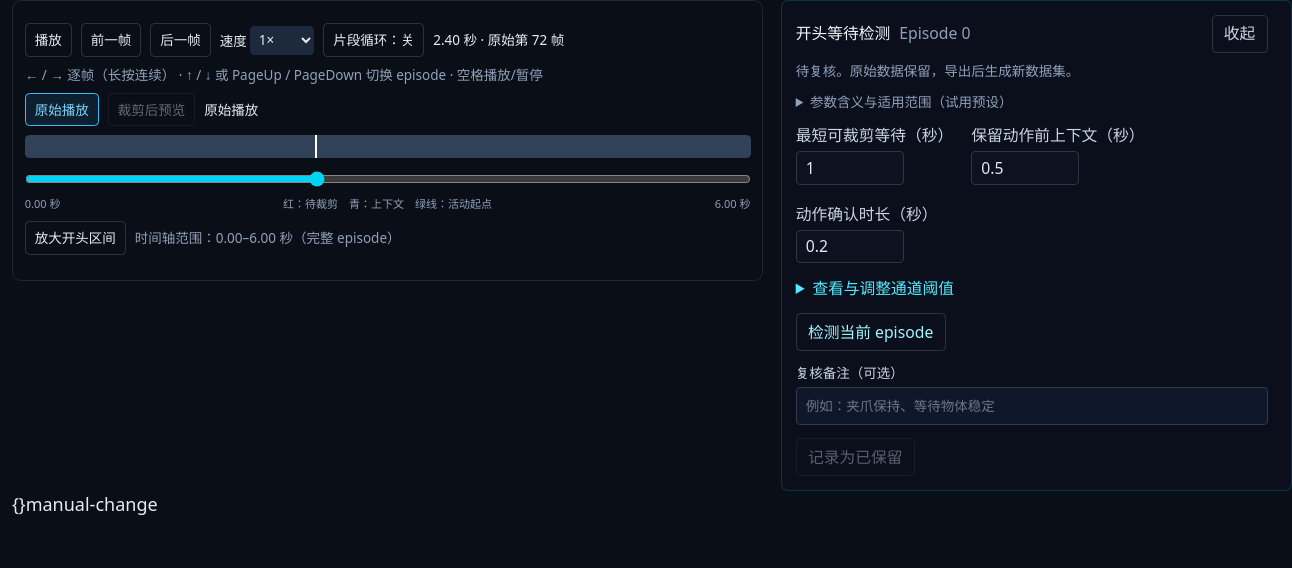
Test case: human review of initial waiting › unreadable data is shown as an error, never an empty successful detection
What coordinates should you click on to do the following:
click the button "检测当前 episode"
I would click on:
 (871, 332)
Its box is [796,313,946,351].
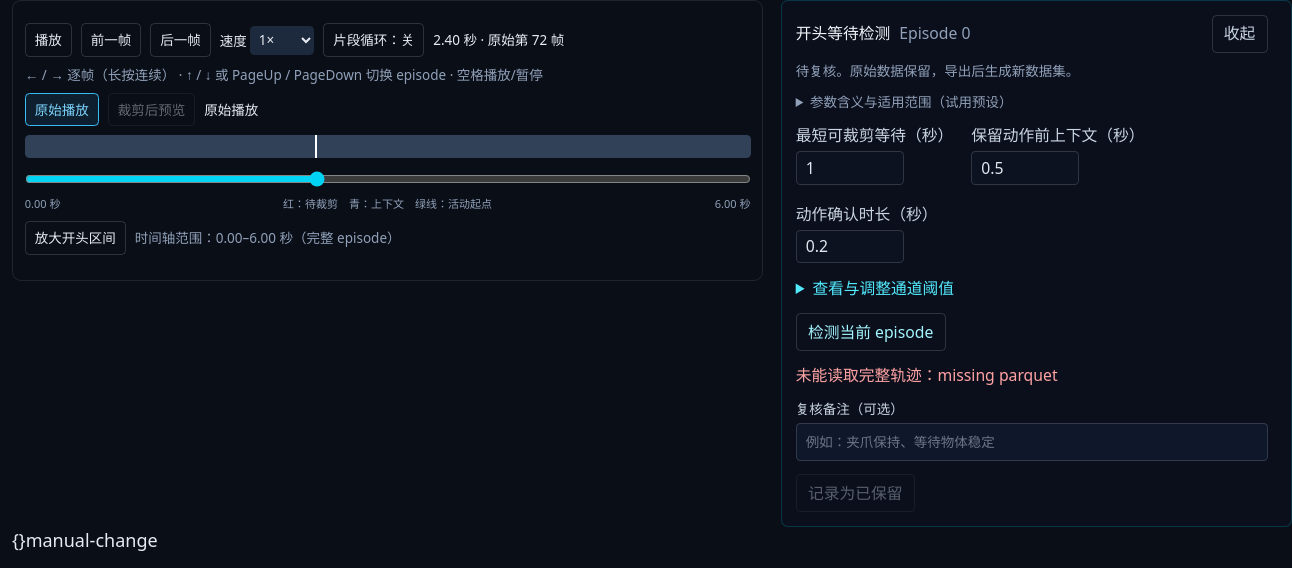
Now the message "未能读取完整轨迹：missing parquet" is shown, box [796,364,1058,386]
